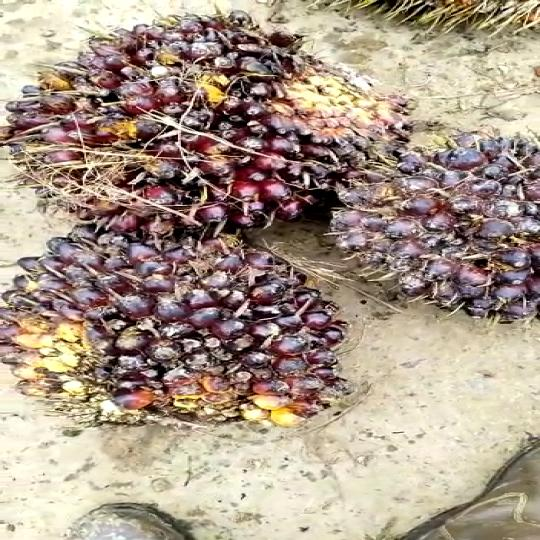kurang masak: (0, 14, 420, 237), (0, 213, 365, 454), (325, 123, 540, 333)
